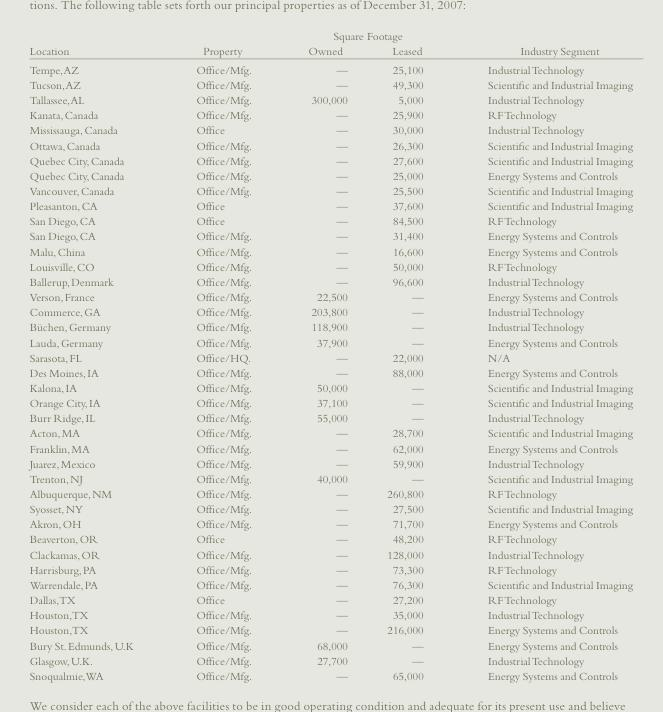table: (28, 28, 632, 681)
table column: (454, 28, 632, 681), (28, 28, 164, 681), (164, 28, 279, 681), (366, 28, 454, 681), (279, 28, 366, 681)
table column header: (28, 28, 632, 59)
table row: (28, 42, 632, 59), (28, 59, 632, 76), (28, 106, 632, 122), (28, 212, 632, 228), (28, 303, 632, 319), (28, 409, 632, 425), (28, 515, 632, 531), (28, 606, 632, 622), (28, 76, 632, 91), (28, 91, 632, 106), (28, 122, 632, 137), (28, 137, 632, 152), (28, 152, 632, 167), (28, 167, 632, 182), (28, 182, 632, 197), (28, 197, 632, 212), (28, 228, 632, 243), (28, 243, 632, 258), (28, 258, 632, 273), (28, 273, 632, 288), (28, 288, 632, 303), (28, 319, 632, 334), (28, 334, 632, 349), (28, 349, 632, 364), (28, 364, 632, 379), (28, 379, 632, 394), (28, 394, 632, 409), (28, 425, 632, 440), (28, 440, 632, 455), (28, 455, 632, 470), (28, 470, 632, 485), (28, 485, 632, 500), (28, 500, 632, 515), (28, 531, 632, 546), (28, 546, 632, 561), (28, 561, 632, 576), (28, 576, 632, 591), (28, 591, 632, 606), (28, 622, 632, 637), (28, 637, 632, 652), (28, 652, 632, 667), (28, 28, 632, 42), (28, 667, 632, 681)
table spanning cell: (454, 28, 632, 59), (28, 28, 164, 59), (164, 28, 279, 59), (279, 28, 454, 42)
